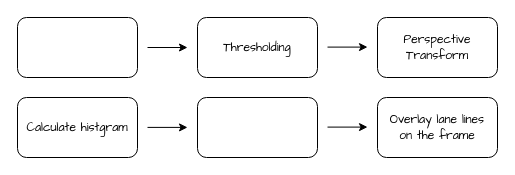
This 515x175 diagram has some shape labels left out. The shapes that lost their labels are listed below. From the top down, each one's box as (x1, y1, x2, y2) in pixels, then its label:
(16, 16, 138, 78): Load Image
(196, 96, 318, 158): Sliding Window Search
